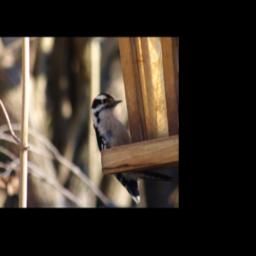Woodpecker: (91, 93, 174, 203)
